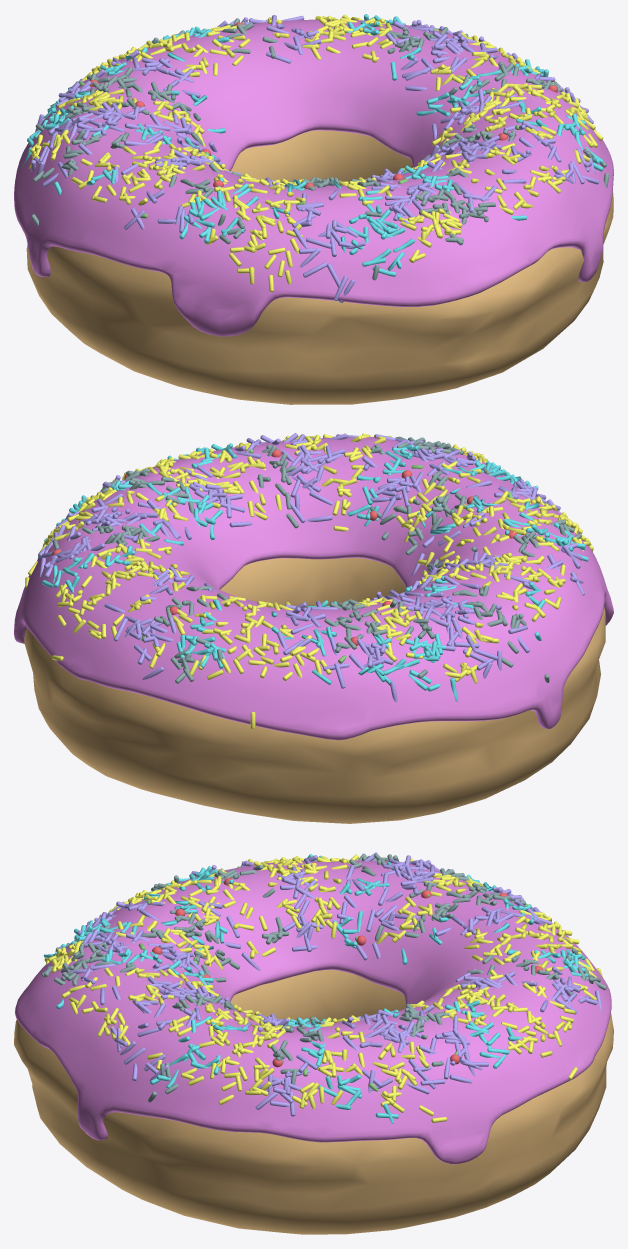
File: donut.fbx
3 views of the same model, one above another, from view 1: azimuth 30°, elevation 25°; view 2: azimuth 150°, elevation 25°; view 3: azimuth 270°, elevation 25° (orthographic). The views are drawn at different scales.
Parts seen in each view (by area): view 1: Icing_002, RealDonut; view 2: Icing_002, RealDonut; view 3: Icing_002, RealDonut.
Boxes of the visible parts, left/top/right/bottom form: Icing_002: left=14, top=14, right=613, bottom=336; RealDonut: left=26, top=130, right=613, bottom=404; Icing_002: left=14, top=433, right=613, bottom=740; RealDonut: left=24, top=558, right=605, bottom=823; Icing_002: left=15, top=852, right=611, bottom=1164; RealDonut: left=14, top=970, right=613, bottom=1234.
Bounding box in the file's own units: 14.94 × 5.67 × 15.37.
